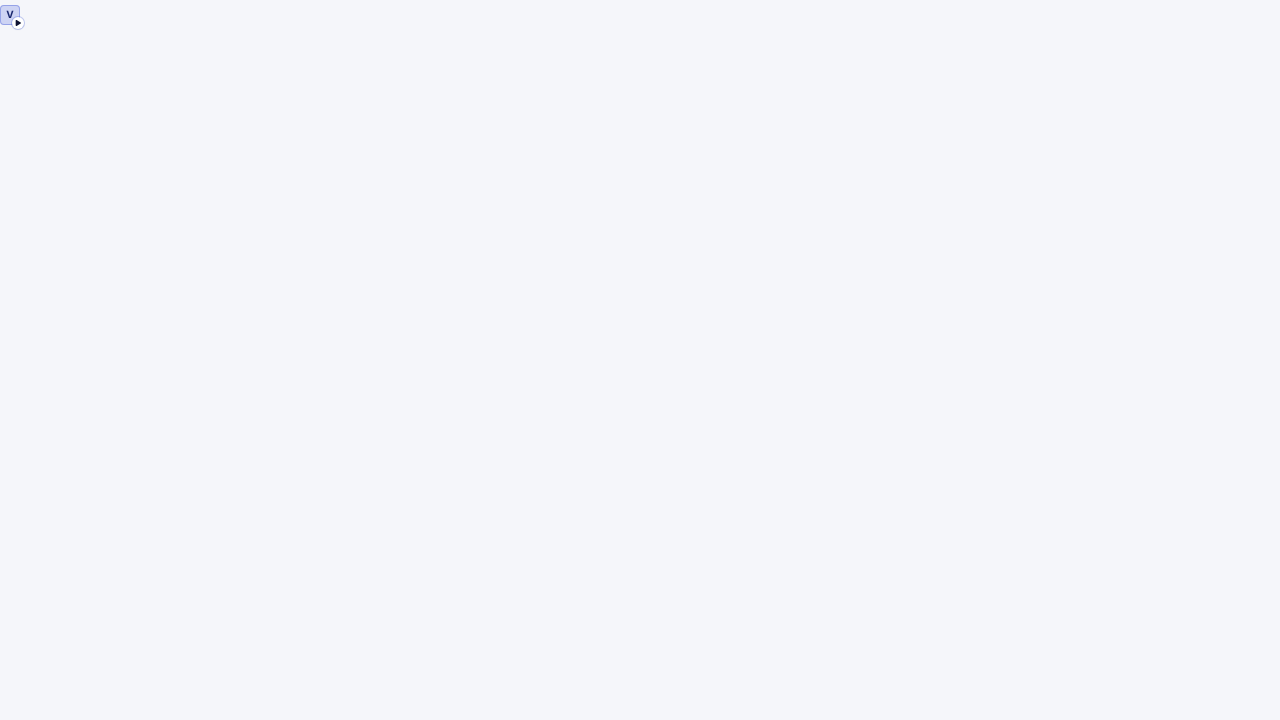
ClaimChip — click semantics (AC-3) › opens the FullClipModal on click when clip-kind
The image size is (1280, 720).
Step 1. Click the button with test id "claim-chip-clip" → (10, 14), box [0,4,20,24]
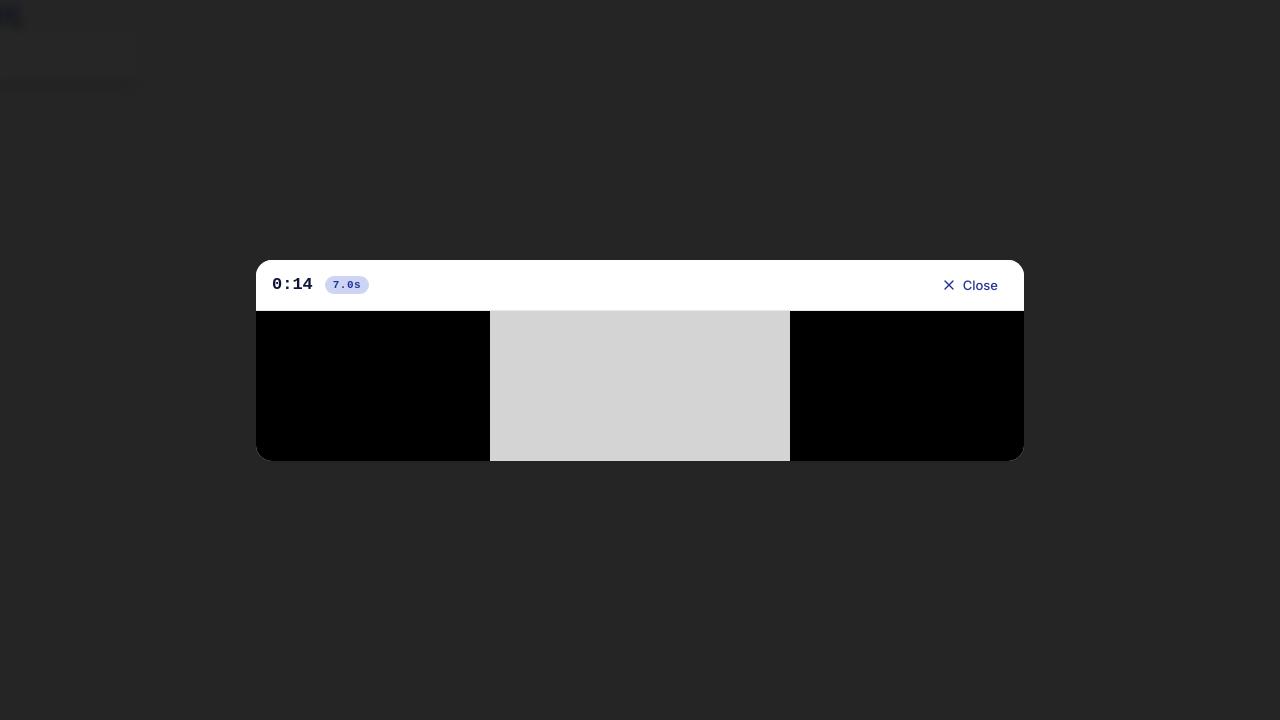
Now the dialog with test id "clip-modal-content" is shown, box [256,260,1024,460]
